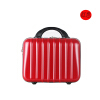shoutibox: (21, 27, 82, 84)
